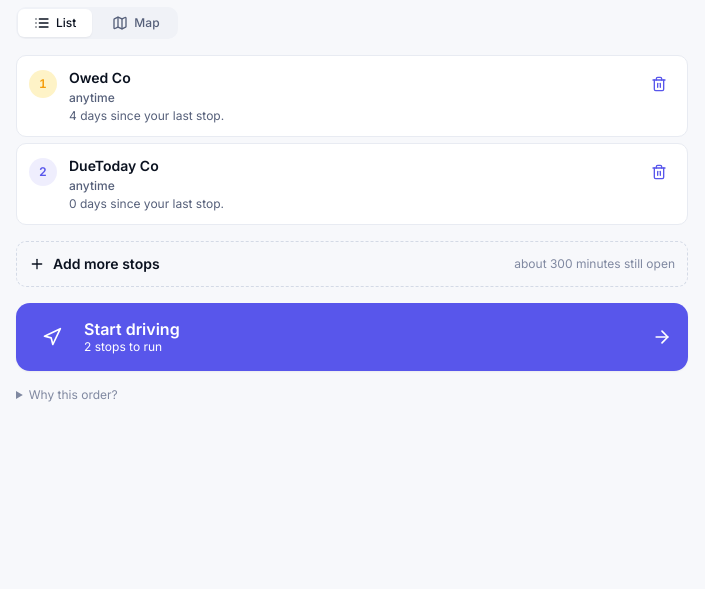
Test: TodaysPathView › one-tap 'Add more stops' (v2.2 B 4.4 fill to capacity) › existing remove-any still works on a non-fill stop (unchanged), with no separate Drop control
Click the button "Add more stops about 300 minutes still open" at (106, 264), box [16,241,688,287]
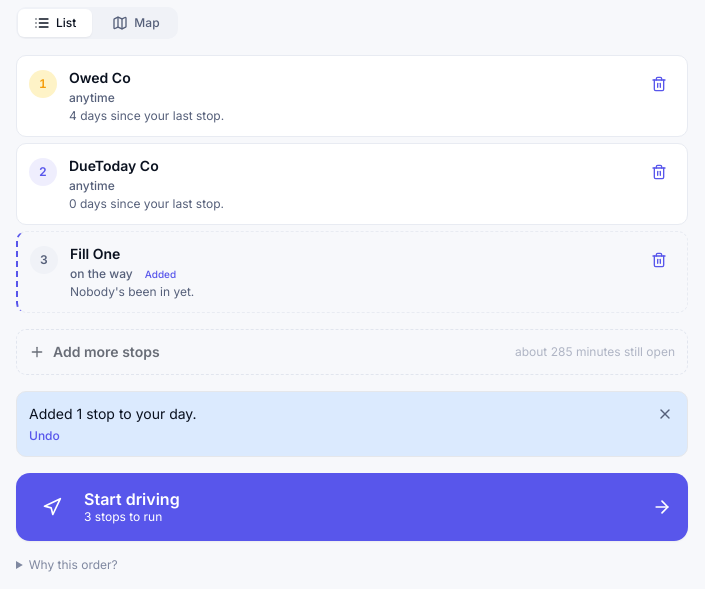
A non-fill flexible stop is still removable via the existing Trash.
Click the button named "remove duetoday co" at (659, 172), box [643,156,675,188]
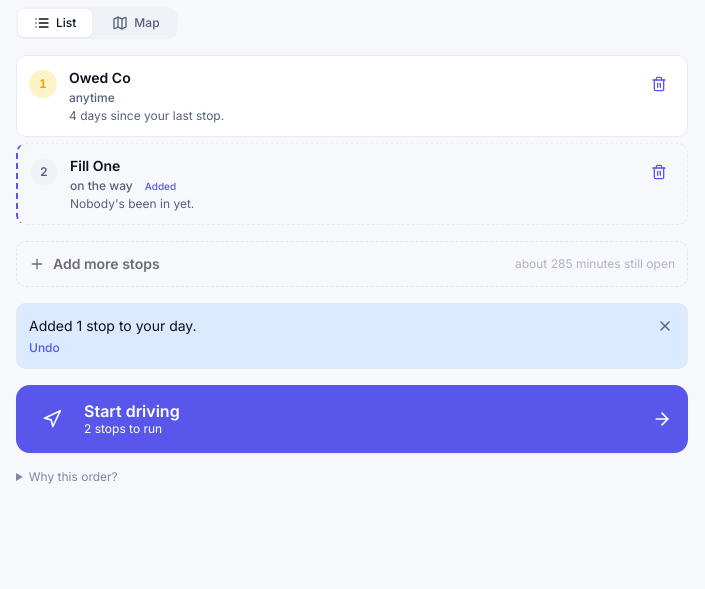
Now the text "Added 1 stop to your day." is shown, box [29,317,197,334]
Now the text "DueToday Co" is gone
